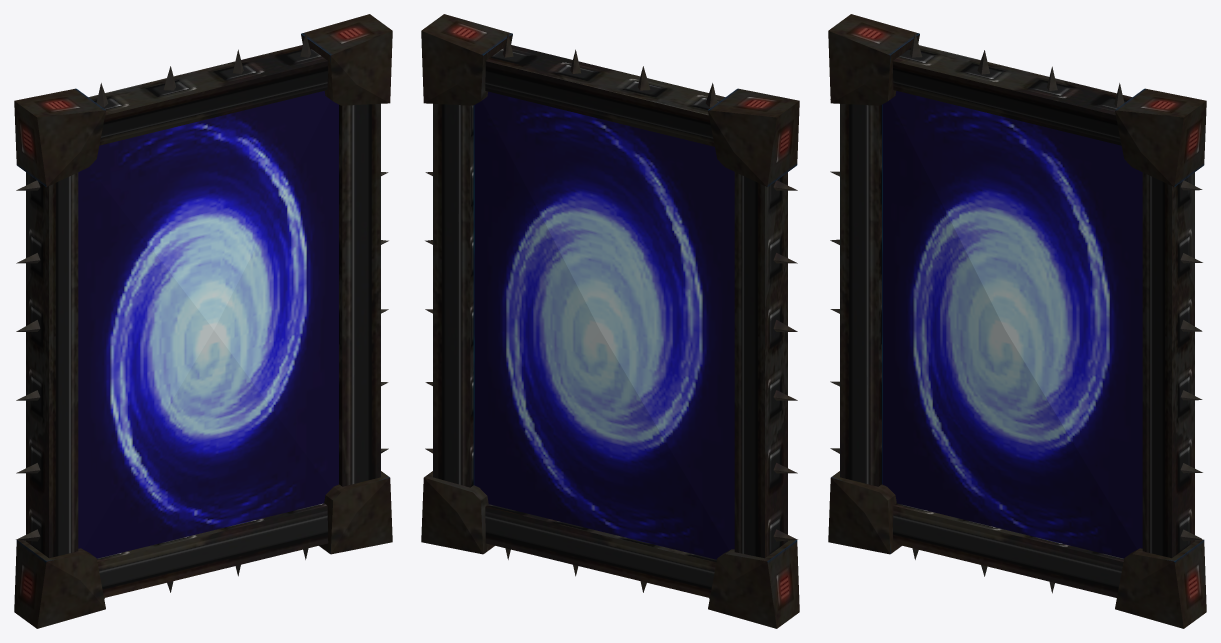
File: teleporter.obj
3 renders of one model, left to right at view 1: azimuth 30°, elevation 25°; view 2: azimuth 150°, elevation 25°; view 3: azimuth 330°, elevation 25°, orthographic.
Parts seen in each view (by area): view 1: teleporter_teleporter_teleporter; view 2: teleporter_teleporter_teleporter; view 3: teleporter_teleporter_teleporter.
Part boxes in pixels (bbox=[...]): teleporter_teleporter_teleporter: bbox=[14, 14, 392, 628]; teleporter_teleporter_teleporter: bbox=[421, 14, 799, 628]; teleporter_teleporter_teleporter: bbox=[828, 14, 1206, 628].
Size of the model in its own units: 5.65 by 7.63 by 0.7815.
Materials: 1 (1 with a texture image).
